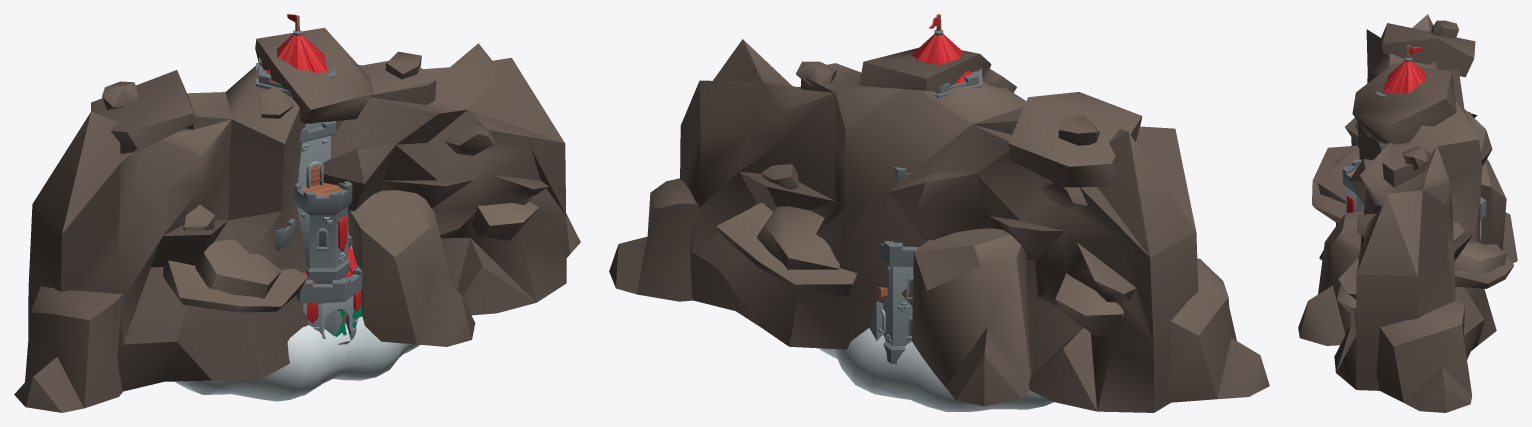
3 views of the same model, side by side, from view 1: azimuth 30°, elevation 25°; view 2: azimuth 150°, elevation 25°; view 3: azimuth 270°, elevation 25° (orthographic). The views are drawn at different scales.
Visible parts, largest first — view 1: rubble_large, building_castle_red, cloud_big; view 2: rubble_large, cloud_big, building_castle_red; view 3: rubble_large, building_castle_red.
Part boxes in pixels (x1=…): rubble_large: x1=14, y1=27, x2=580, y2=412; building_castle_red: x1=250, y1=14, x2=362, y2=344; cloud_big: x1=175, y1=316, x2=419, y2=401; rubble_large: x1=609, y1=39, x2=1269, y2=412; cloud_big: x1=819, y1=328, x2=1053, y2=411; building_castle_red: x1=878, y1=14, x2=982, y2=363; rubble_large: x1=1298, y1=14, x2=1517, y2=412; building_castle_red: x1=1342, y1=45, x2=1486, y2=241.
Bounding box in the file's own units: 8.13 × 4.89 × 3.18.
Materials: 3 (3 with a texture image).
